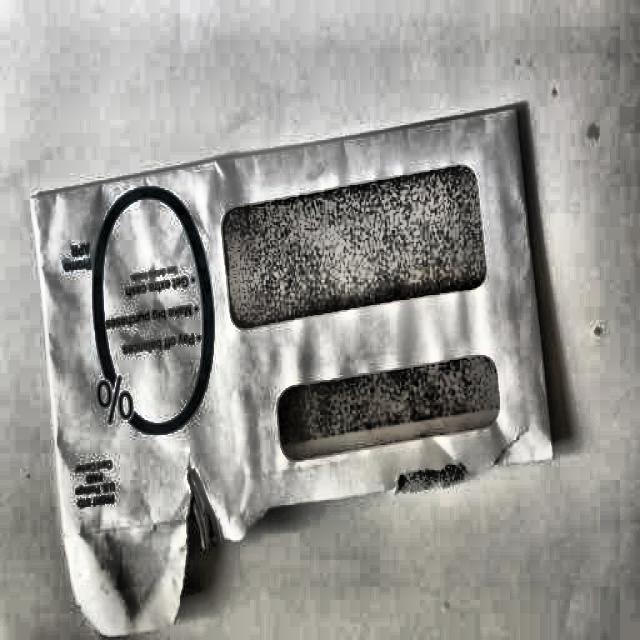paper: (28, 110, 555, 610)
